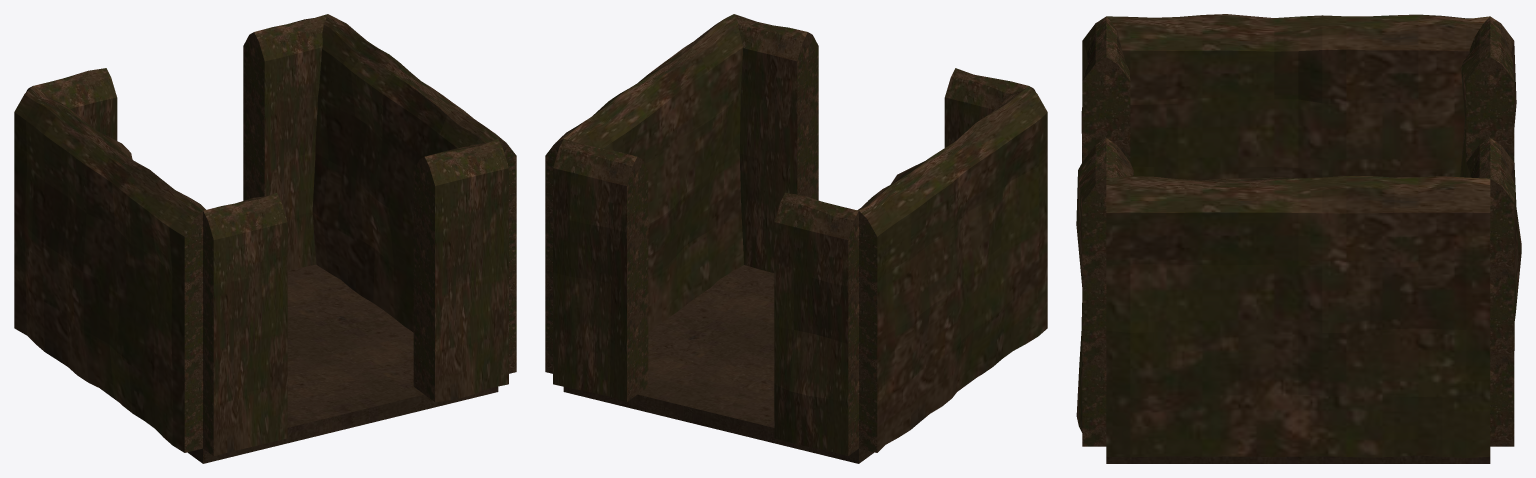
Rendered from cave_room_01_dirt.glb.
The picture shows the model from 3 angles, left to right: view 1: azimuth 30°, elevation 25°; view 2: azimuth 150°, elevation 25°; view 3: azimuth 270°, elevation 25°; orthographic projection. The views are drawn at different scales.
Parts seen in each view (by area): view 1: cave_room_01_dirt; view 2: cave_room_01_dirt; view 3: cave_room_01_dirt.
Part boxes in pixels (bbox=[...]): cave_room_01_dirt: bbox=[14, 14, 516, 463]; cave_room_01_dirt: bbox=[545, 14, 1047, 463]; cave_room_01_dirt: bbox=[1076, 14, 1521, 463].
Size of the model in its own units: 4.64 by 3.31 by 4.64.
Materials: 2 (2 with a texture image).
